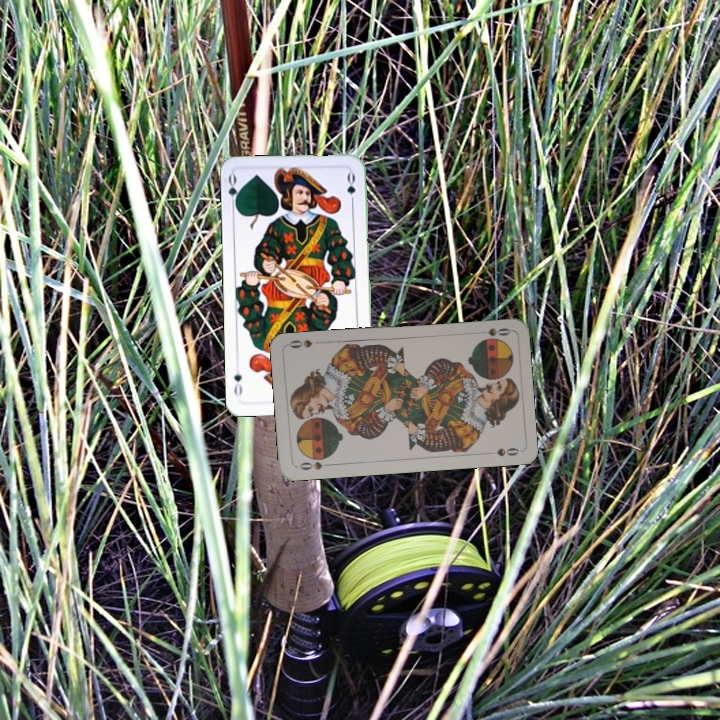GO: (224, 171, 243, 212)
SO: (293, 458, 334, 472), (472, 324, 513, 338)
